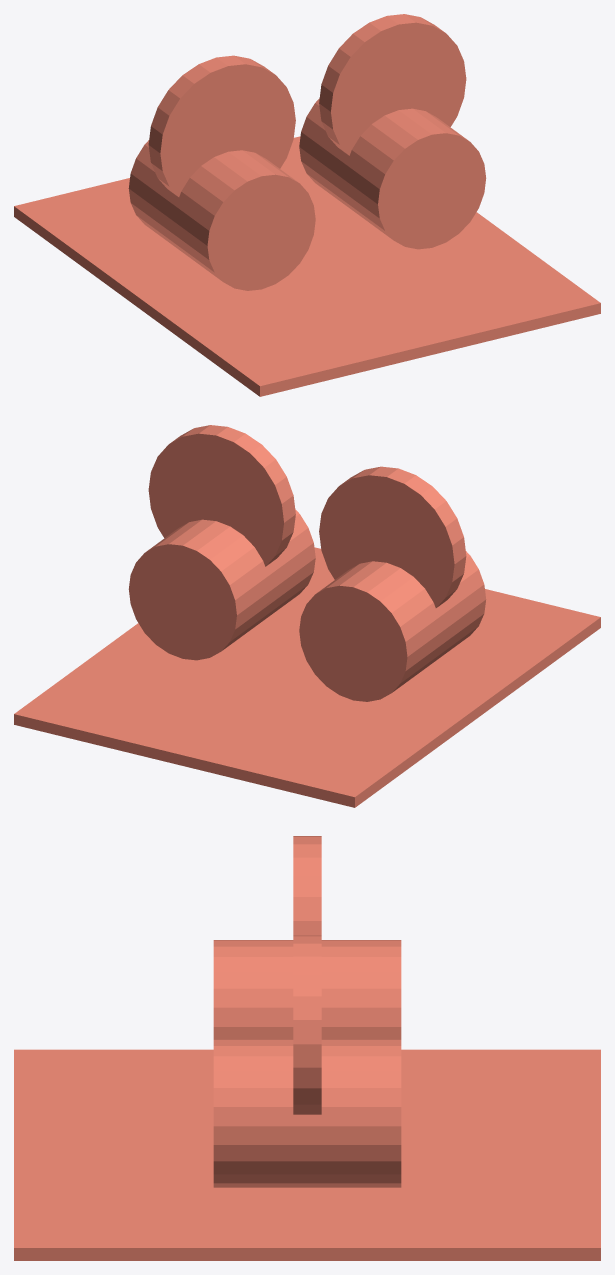
The model's file is SM_FDC_2.5in_Stortz_TwoInlet.glb.
The picture shows the model from 3 angles, top to bottom: view 1: azimuth 30°, elevation 25°; view 2: azimuth 150°, elevation 25°; view 3: azimuth 270°, elevation 25°; orthographic projection. The views are drawn at different scales.
Visible parts, largest first — view 1: world; view 2: world; view 3: world.
Part boxes in pixels (x1=…): world: x1=14, y1=14, x2=600, y2=396; world: x1=14, y1=425, x2=600, y2=807; world: x1=14, y1=836, x2=600, y2=1260.
Size of the model in its own units: 0.2 by 0.1258 by 0.25.
